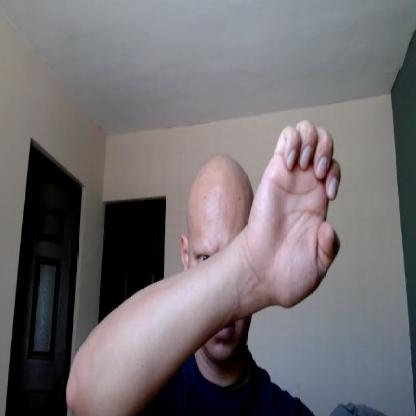E: (250, 119, 344, 312)
